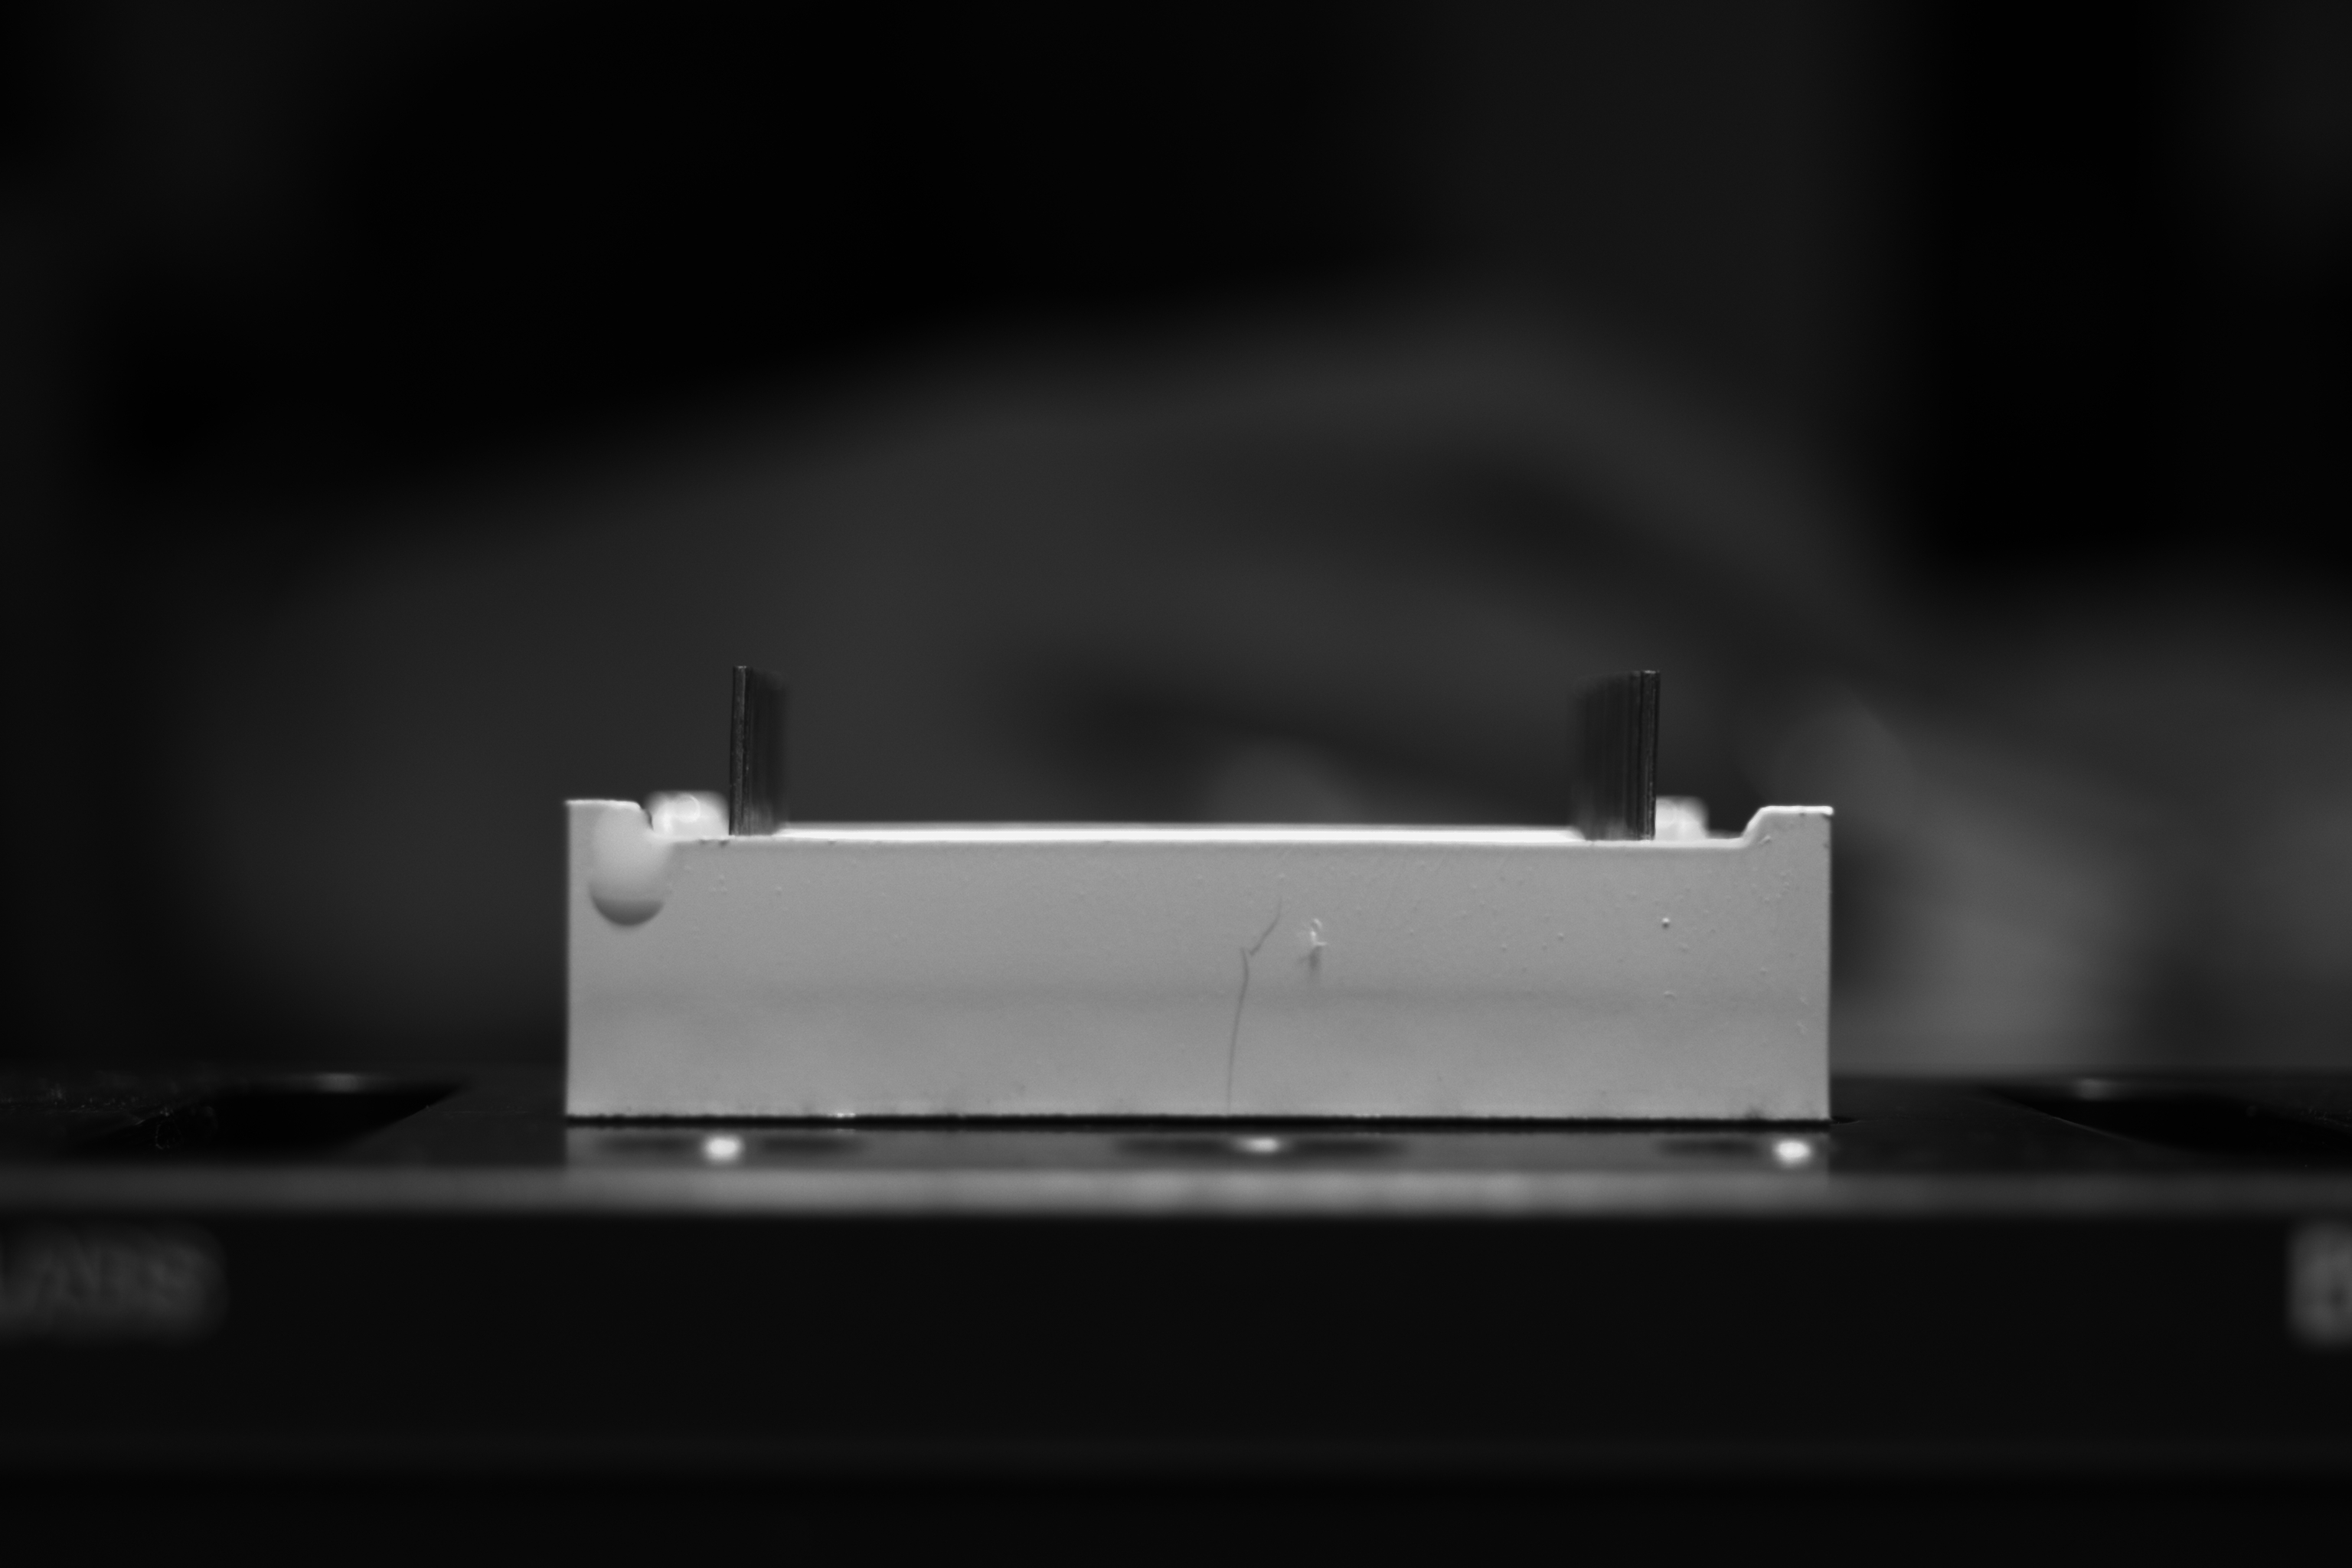glue: (581, 808, 679, 927), (1661, 917, 1671, 929)
